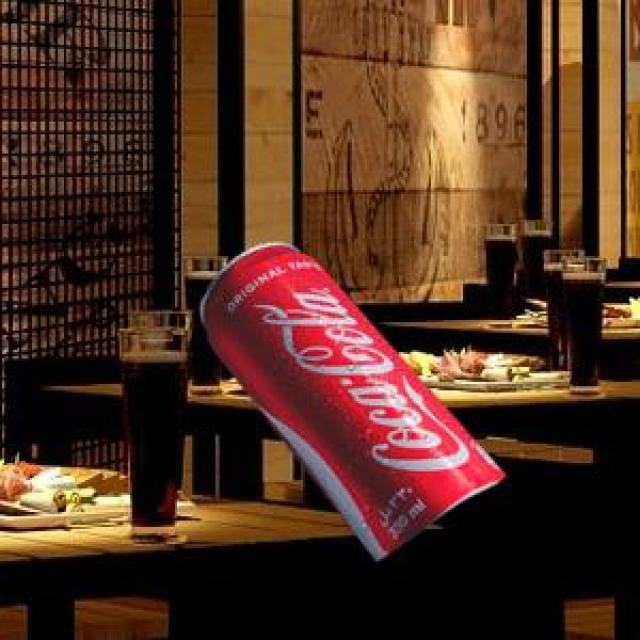logam: (197, 240, 502, 558)
